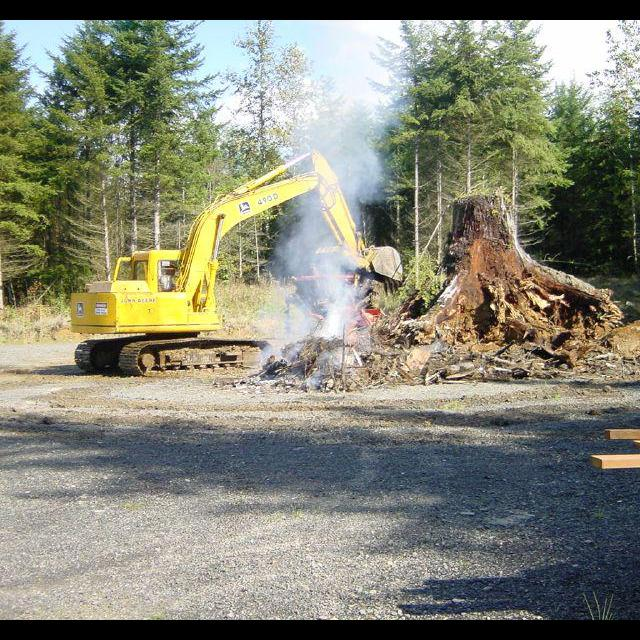Excavator: (66, 146, 405, 377)
Person: (159, 265, 175, 291)
